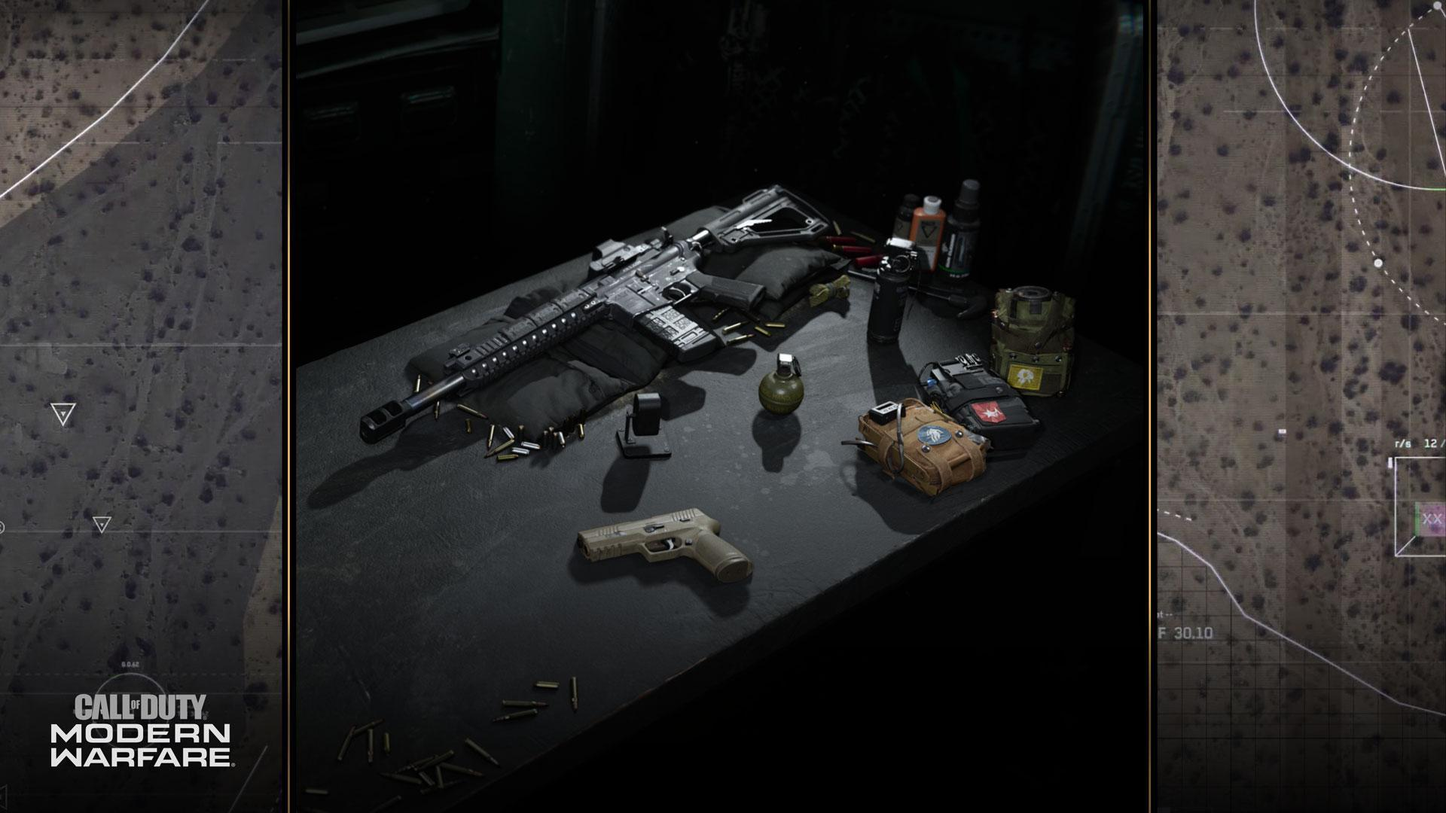Grenade: (858, 227, 933, 355), (758, 355, 808, 414)
Gun: (362, 184, 838, 443)
Pistol: (580, 506, 761, 580)
